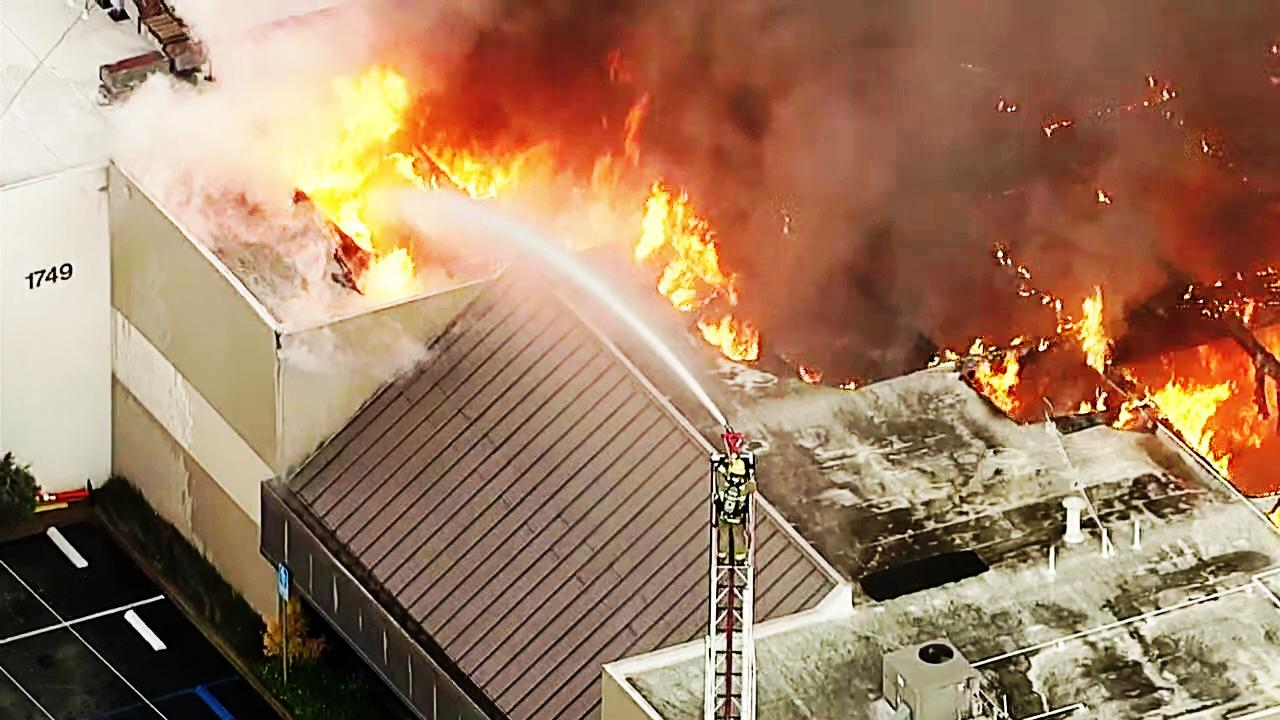fire: (272, 77, 431, 214), (647, 182, 739, 343), (1132, 360, 1242, 452)
